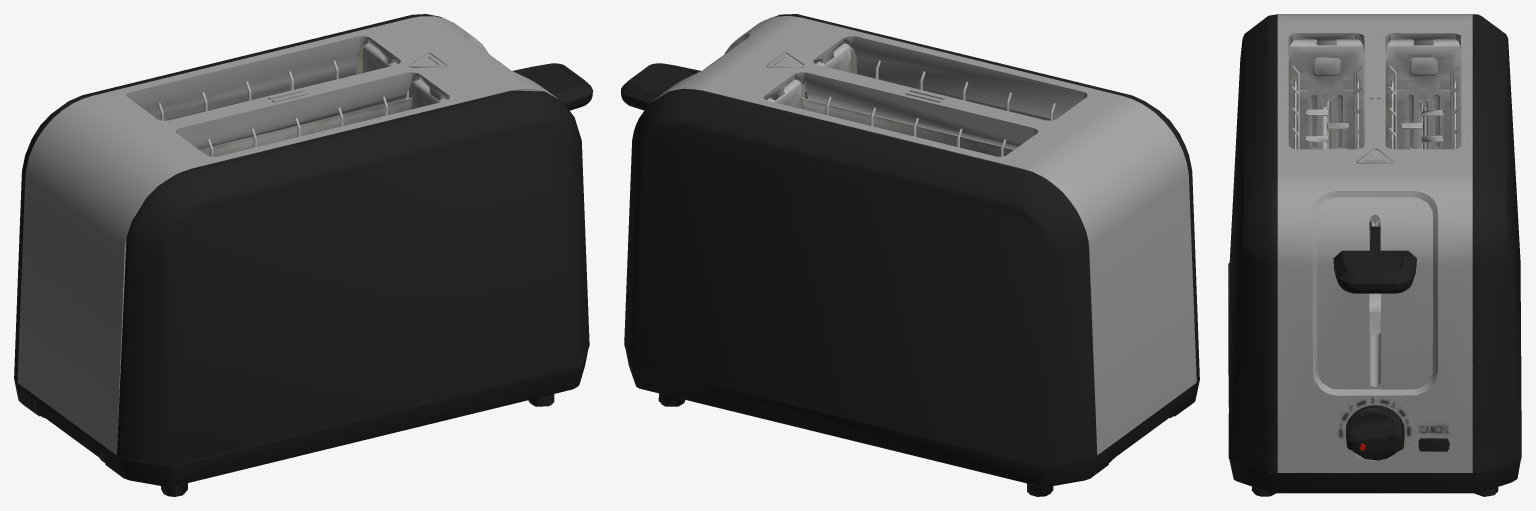
Rendered from SR-appliance_toaster_a01.glb.
The picture shows the model from 3 angles, left to right: view 1: azimuth 30°, elevation 25°; view 2: azimuth 150°, elevation 25°; view 3: azimuth 270°, elevation 25°; orthographic projection. The views are drawn at different scales.
Parts seen in each view (by area): view 1: body_mesh_01.001, lever_mesh_01.001; view 2: body_mesh_01.001, lever_mesh_01.001; view 3: body_mesh_01.001, lever_mesh_01.001, dial_mesh_01.001, tray_mesh_01, cancel_button_mesh_01.
Part boxes in pixels (x1=…): body_mesh_01.001: x1=14, y1=14, x2=589, y2=496; lever_mesh_01.001: x1=513, y1=63, x2=592, y2=110; body_mesh_01.001: x1=624, y1=14, x2=1199, y2=496; lever_mesh_01.001: x1=621, y1=63, x2=700, y2=110; body_mesh_01.001: x1=1228, y1=14, x2=1521, y2=496; lever_mesh_01.001: x1=1333, y1=226, x2=1416, y2=293; dial_mesh_01.001: x1=1346, y1=405, x2=1404, y2=460; tray_mesh_01: x1=1305, y1=100, x2=1443, y2=229; cancel_button_mesh_01: x1=1418, y1=438, x2=1449, y2=451.
Size of the model in its own units: 0.3065 by 0.1791 by 0.1547.
Materials: 6 (6 with a texture image).
